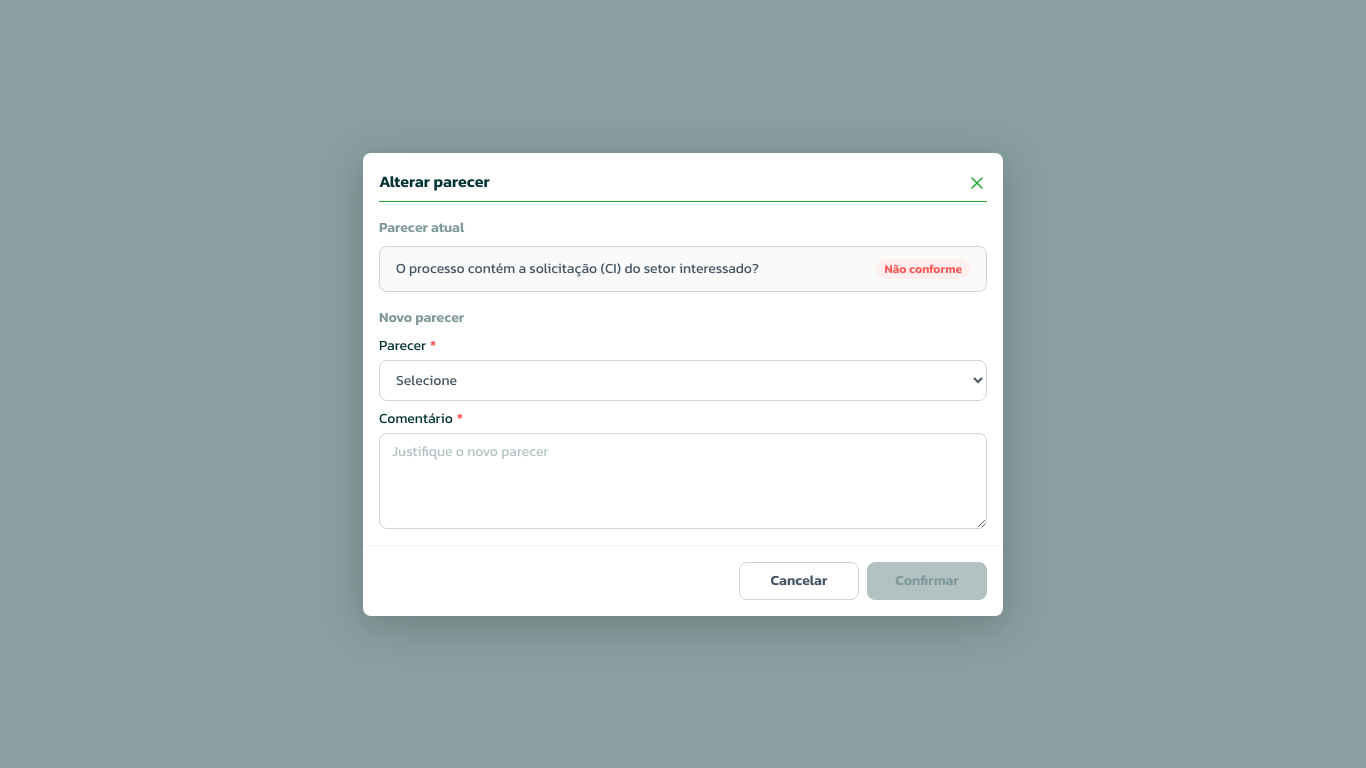
Test case: AlterarParecerModal › Confirmar fica desabilitado até haver parecer e comentário
Expected: the button "Confirmar" is disabled, [867, 562, 987, 600]
Select "Conforme" in the dropdown labelled "Parecer *" at (683, 380), box [379, 360, 987, 400]
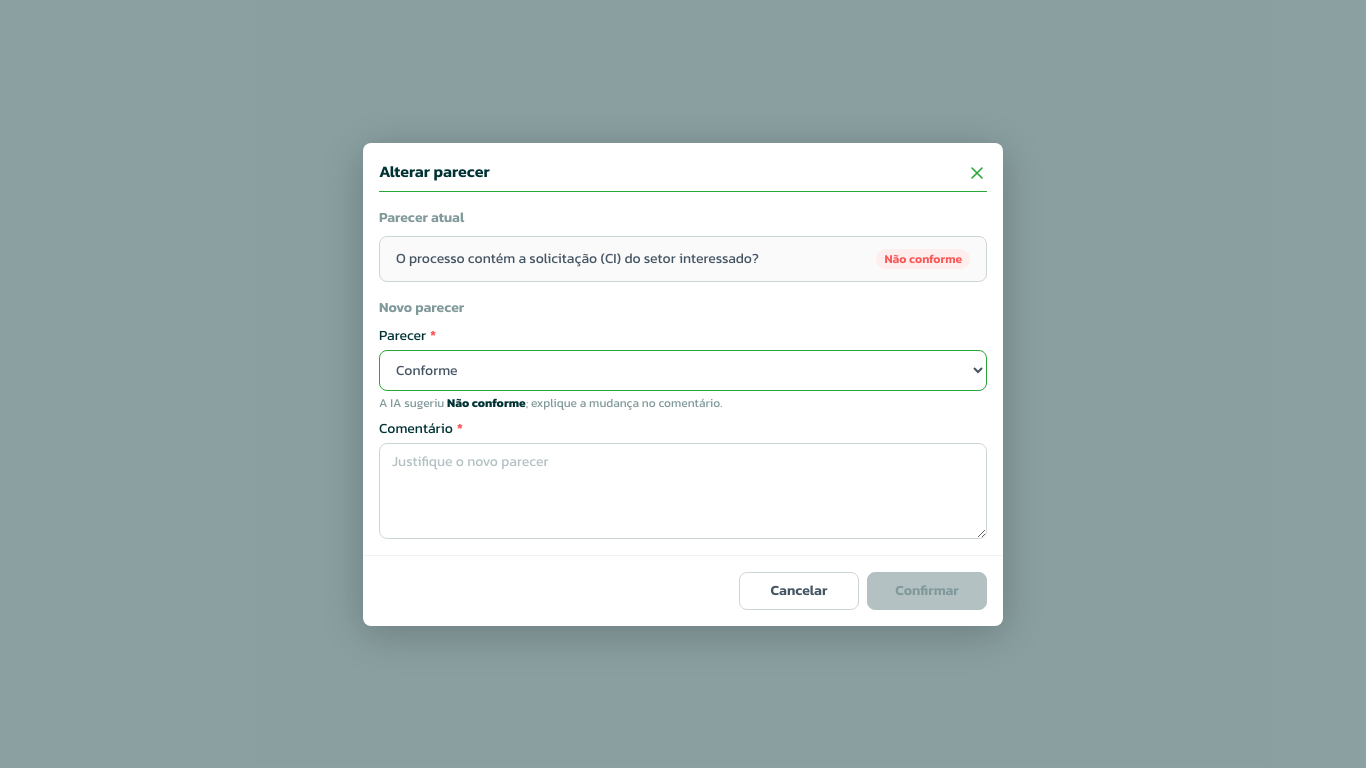
Expected: the button "Confirmar" is disabled, [867, 572, 987, 610]
Type "consta à fl. 2" into the text box labelled "Comentário *" at (683, 490), box [379, 442, 987, 538]
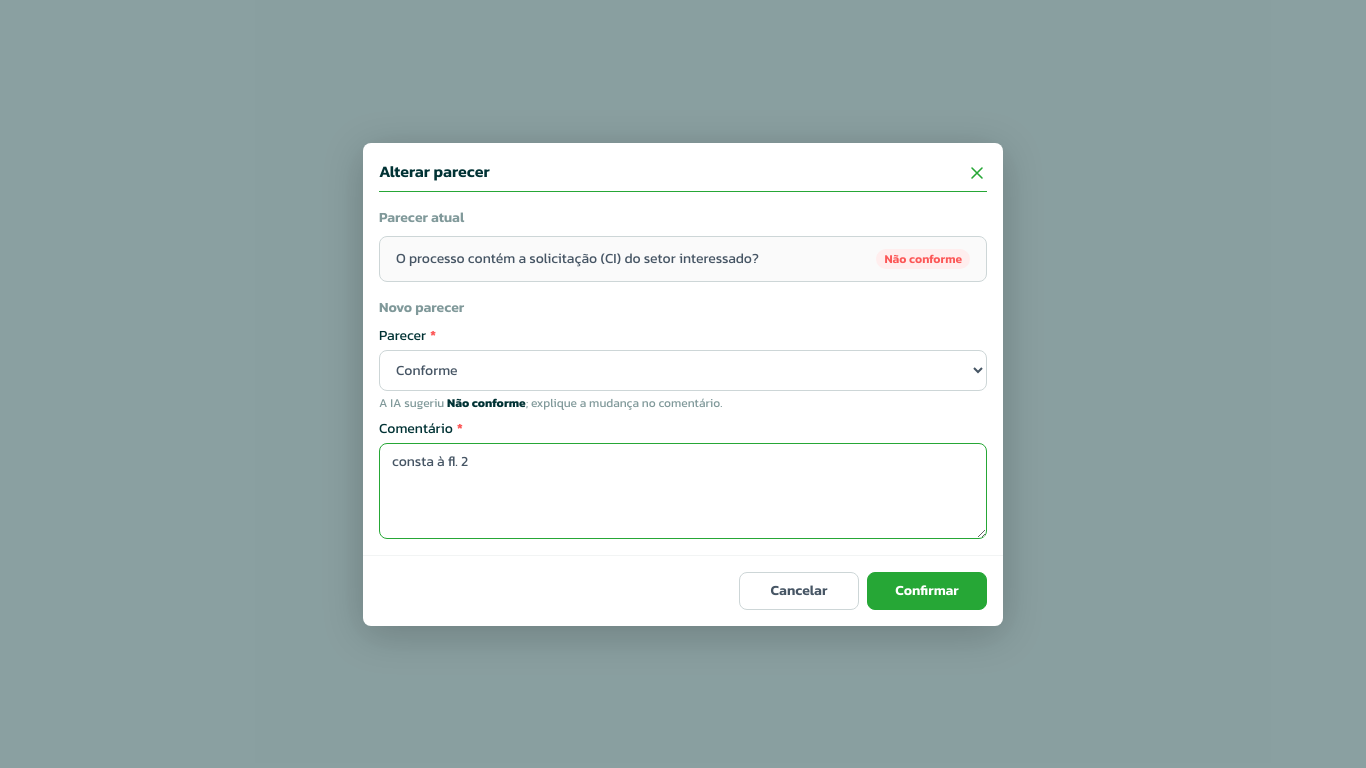
Result: the button "Confirmar" is enabled at [867, 572, 987, 610]
